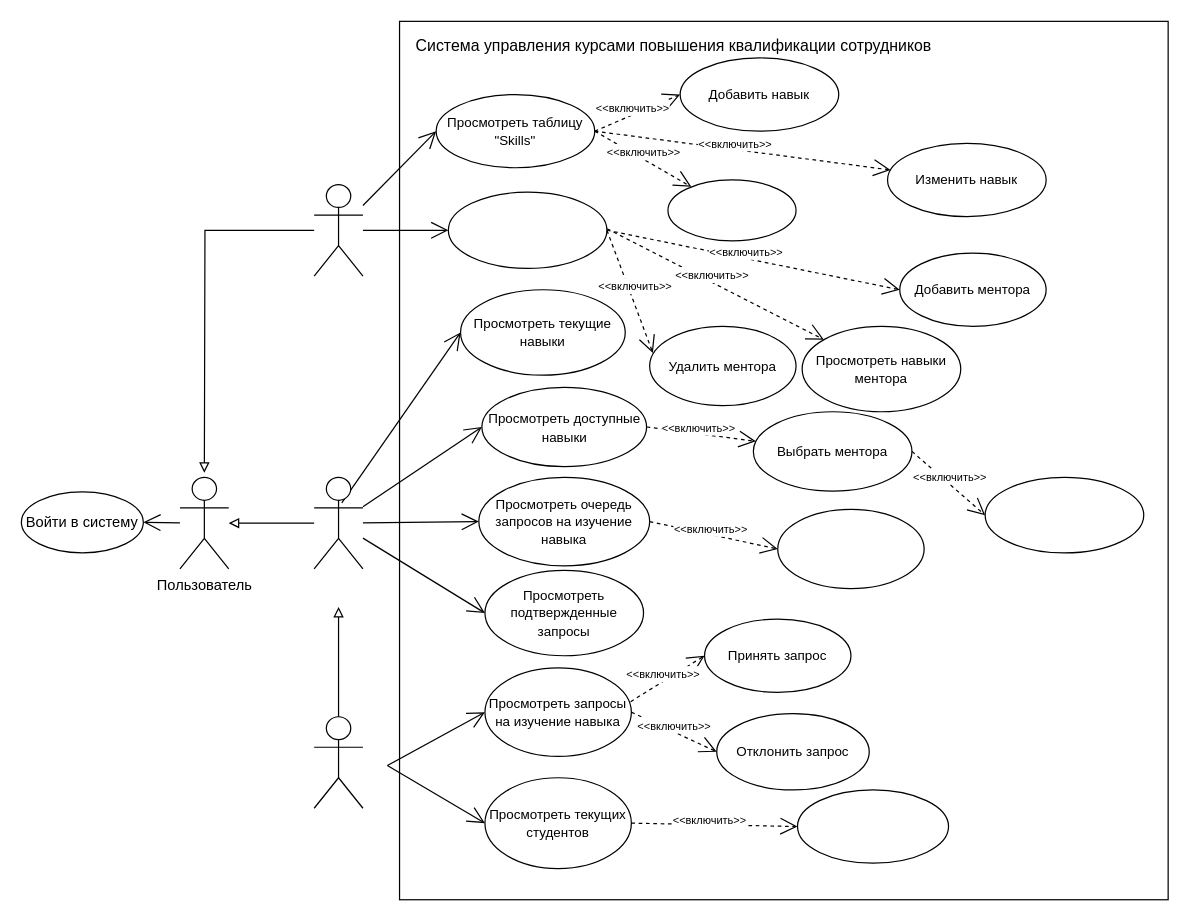
Some shapes in this 1190 by 921 pixel diagram are drawn without their labels. The shapes that lost their labels are listed below. From the top down, each one's centre as x and y in pixels, then its label:
[338,229]: Менеджер
[527,229]: Просмотреть таблицу "Mentors"
[731,210]: Удалить навык
[338,522]: Студент
[1064,514]: Отправить запрос на изучение навыка
[850,548]: Отменить запрос
[338,762]: Ментор
[872,826]: Подтвердить навык
